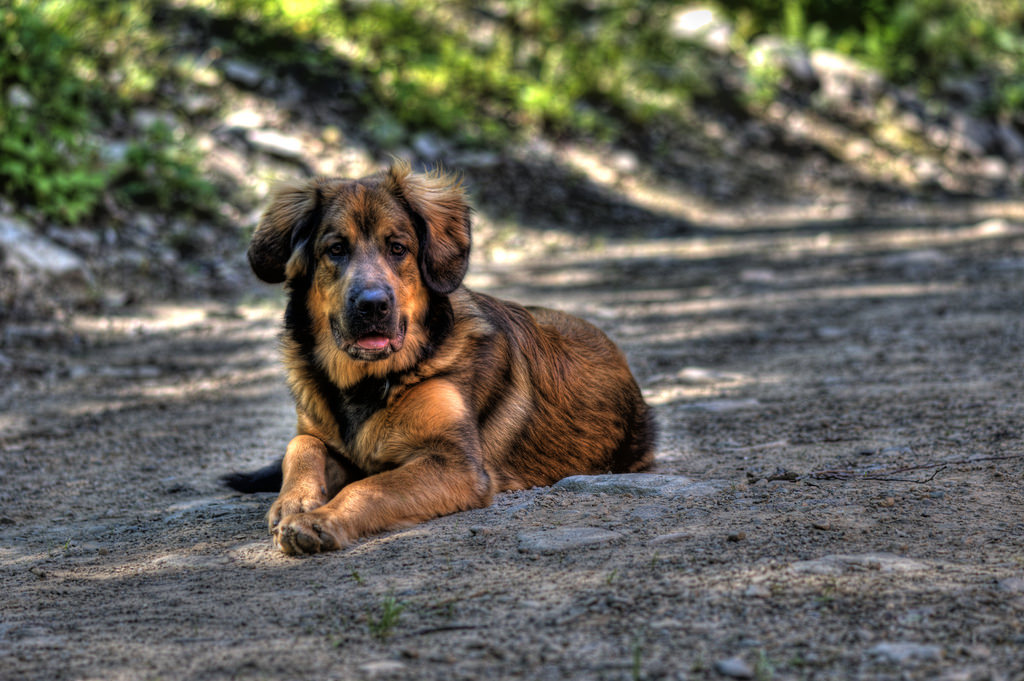other_dog_breed: (217, 152, 658, 554)
